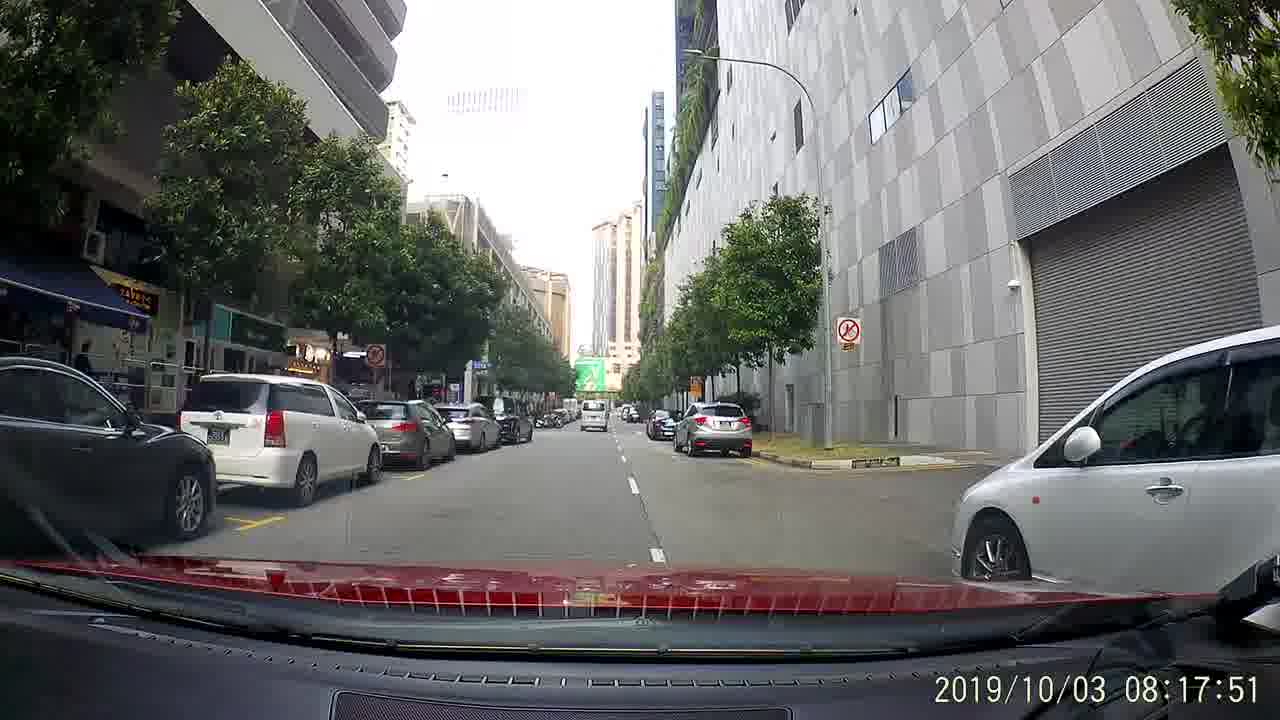car: (962, 337, 1278, 589), (0, 350, 224, 553), (169, 369, 383, 506), (353, 396, 458, 467), (671, 396, 756, 457), (431, 399, 502, 452), (472, 391, 534, 443), (645, 406, 687, 441)
